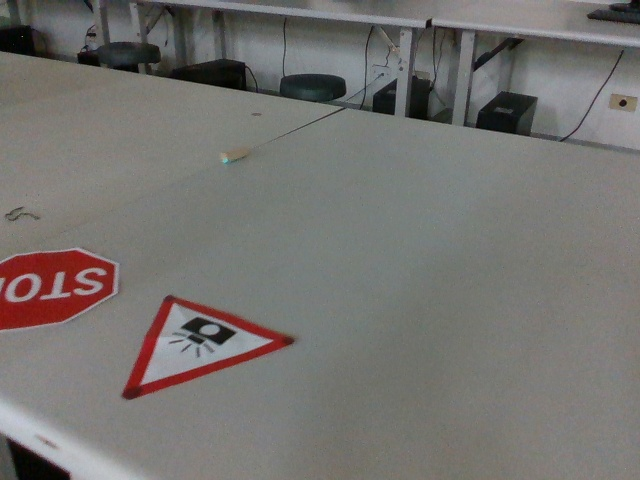camera: (123, 295, 298, 404)
stop: (3, 246, 120, 332)
